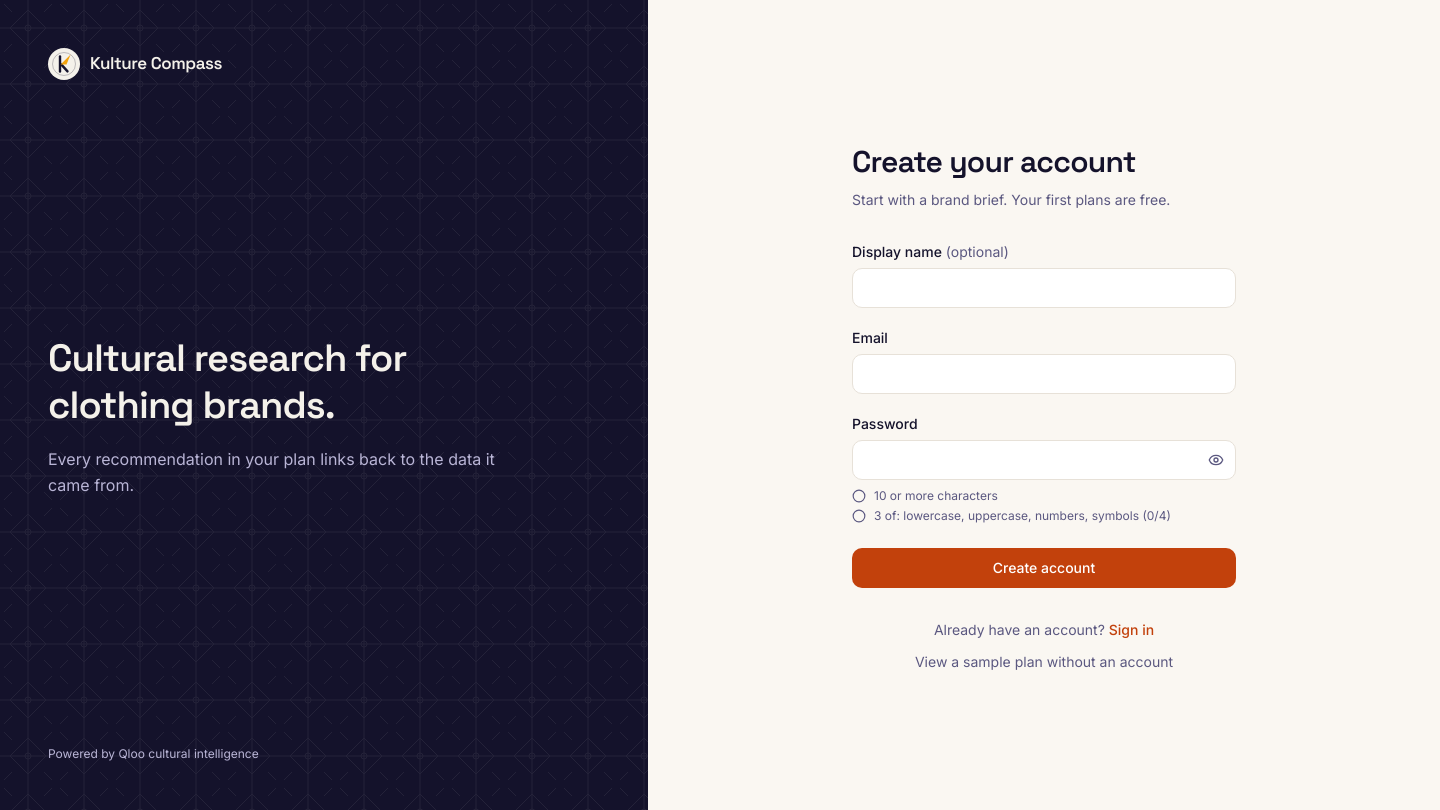
Test case: SignUpPage › rejects passwords that miss the backend policy
This screenshot has width=1440, height=810.
In the field labelled "Email": (1044, 374) [852, 354, 1236, 394], type "ada@example.com"
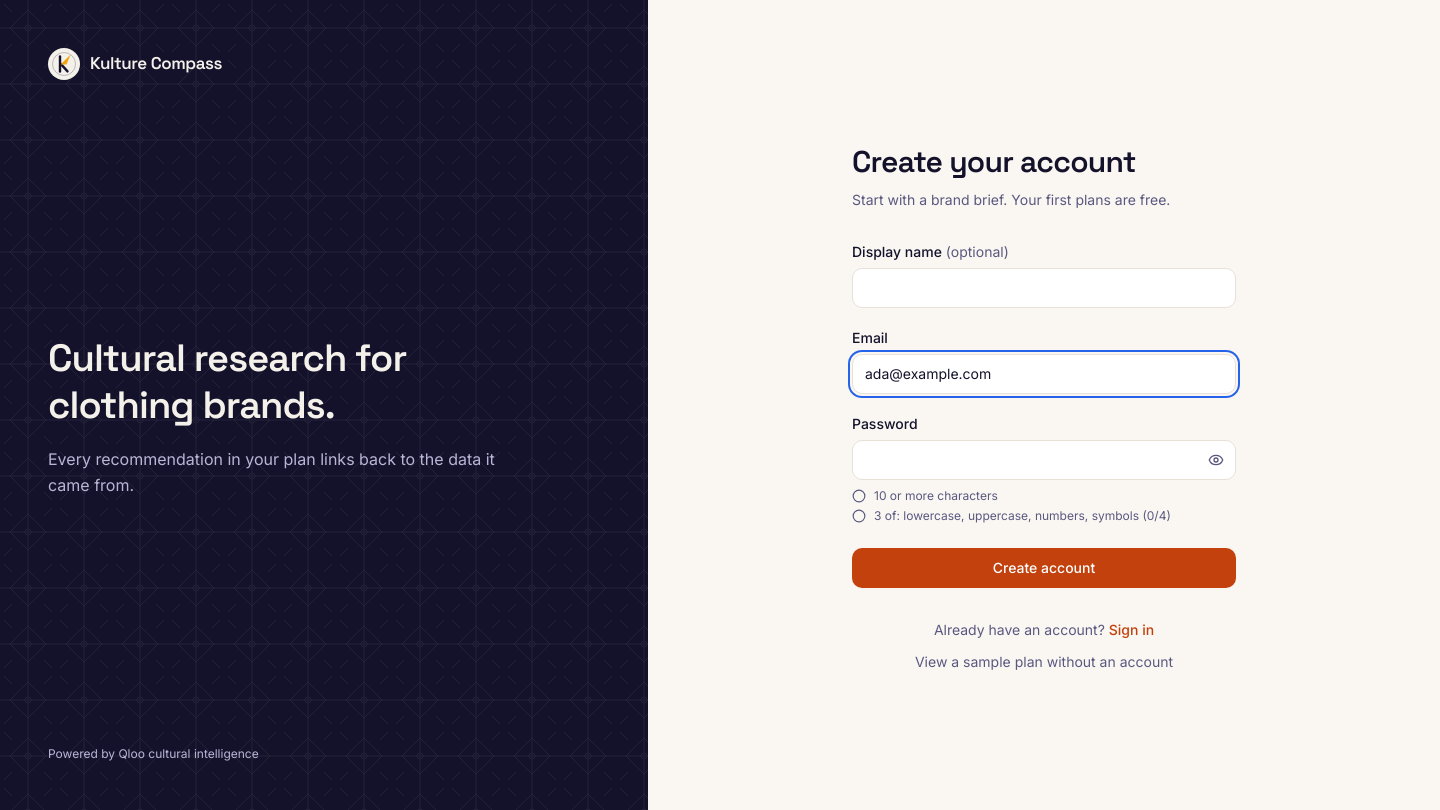
In the password field labelled "Password": (1044, 460) [852, 440, 1236, 480], type "alllowercaseletters"
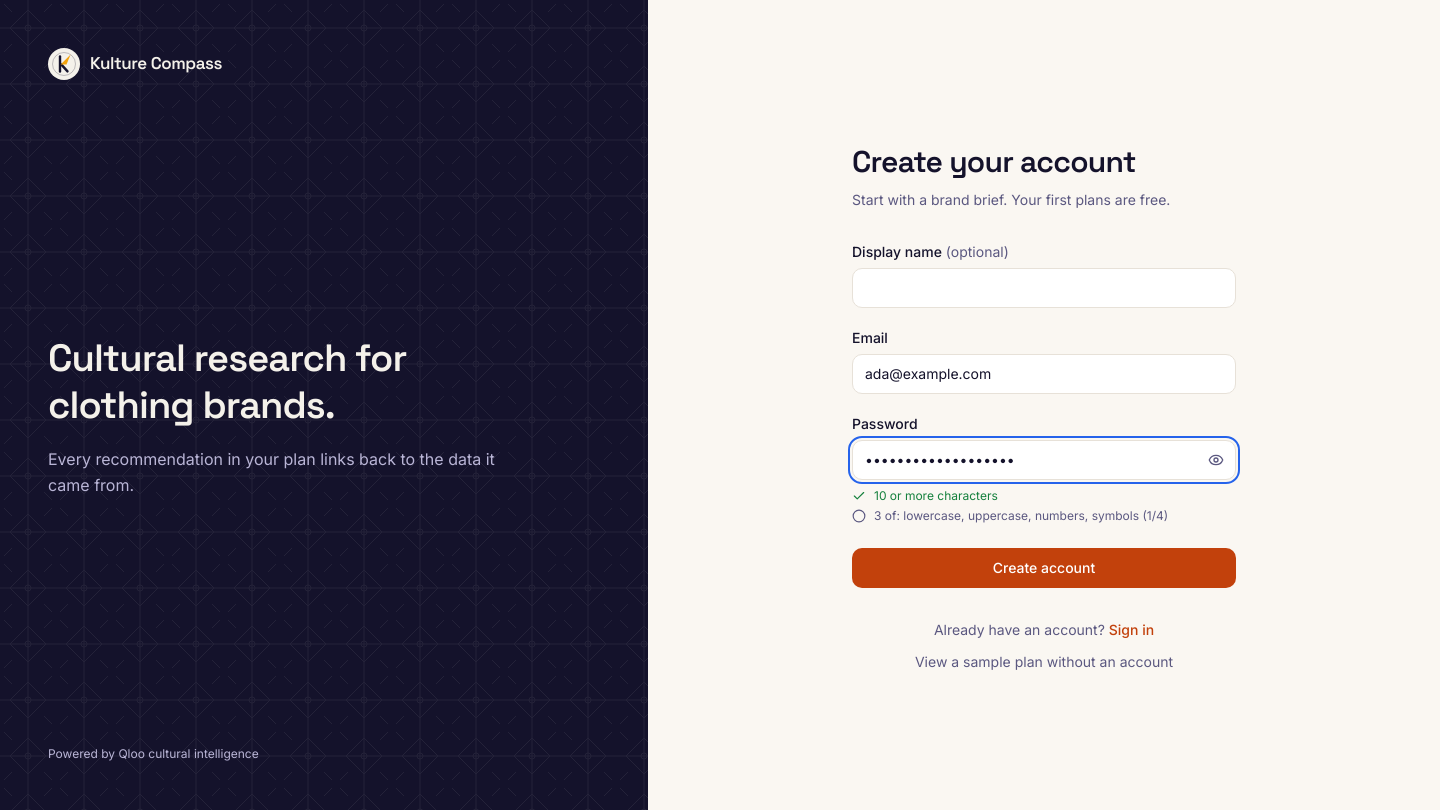
Click the button "Create account": (1044, 568) [852, 548, 1236, 588]
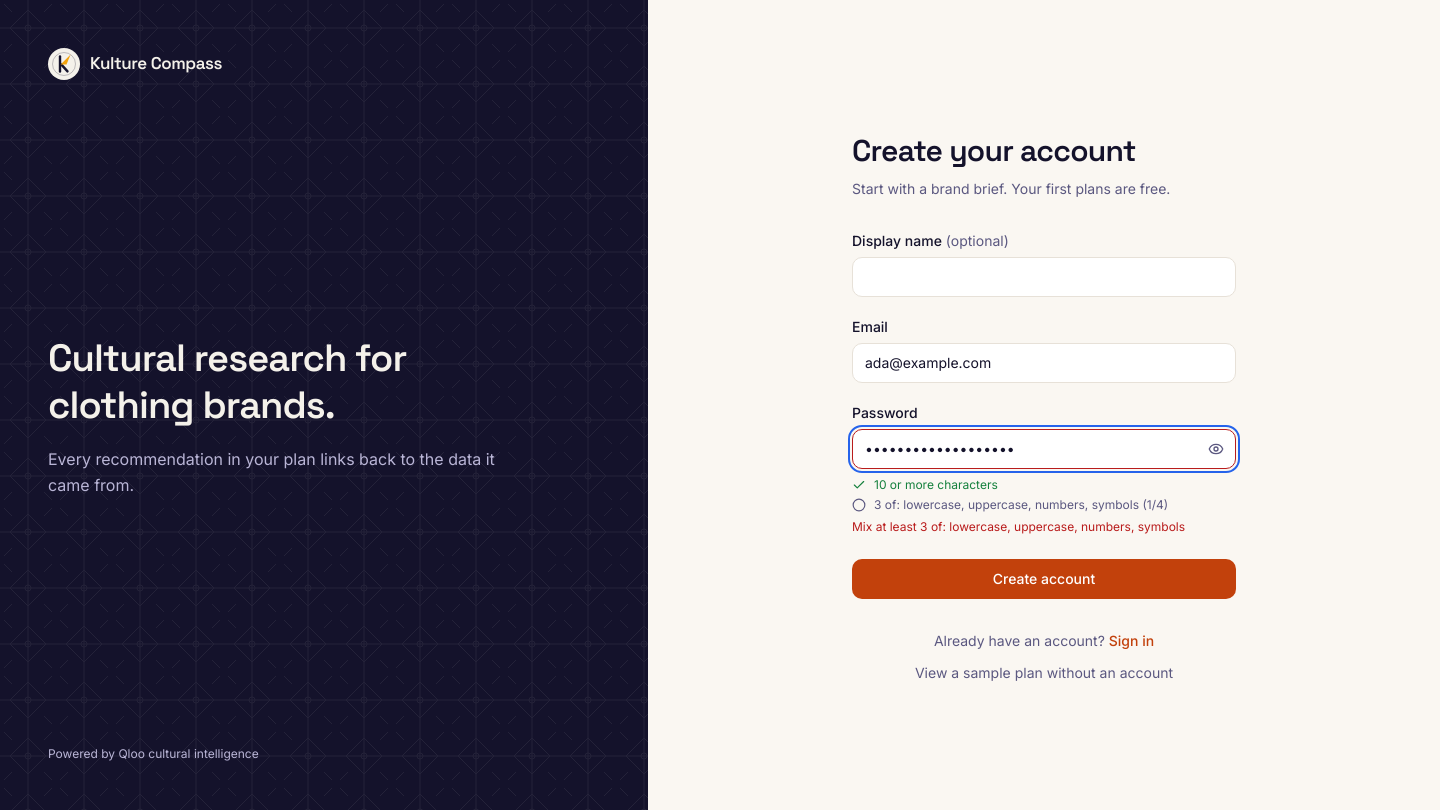
Expected: the text "Mix at least 3 of: lowercase, uppercase, numbers, symbols" is shown, [852, 518, 1236, 534]
